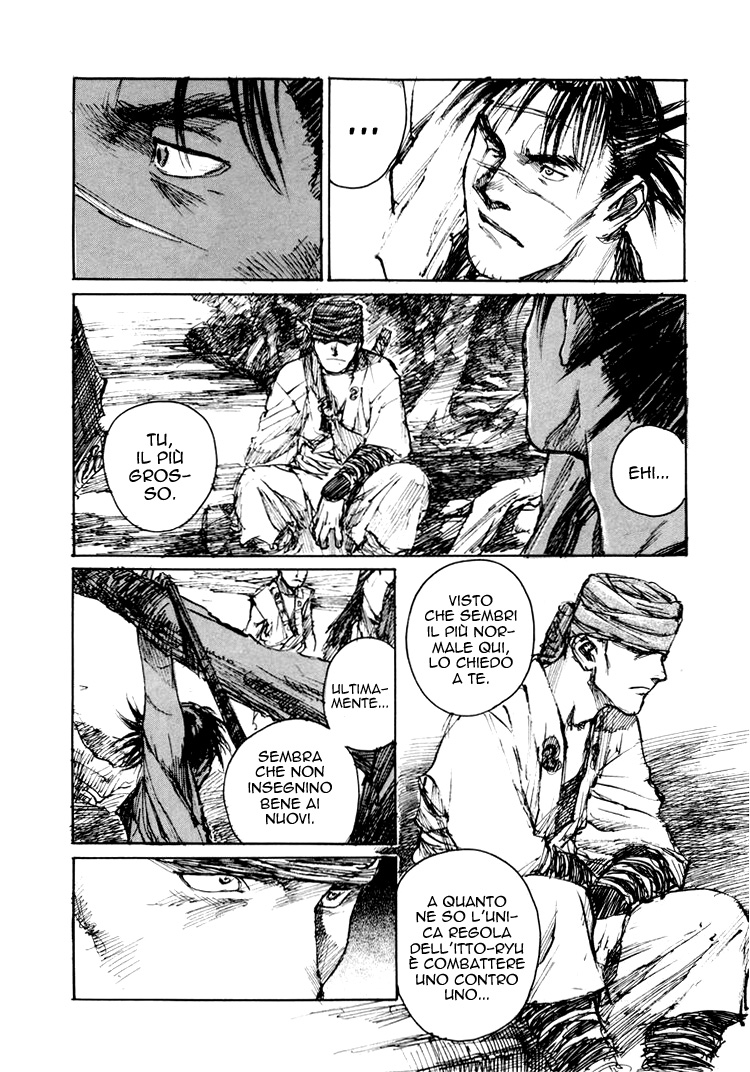Baloon: (398, 849, 538, 1047), (403, 560, 536, 718), (223, 718, 362, 844), (101, 400, 219, 531), (328, 78, 406, 188), (610, 423, 692, 524), (323, 637, 395, 750)
Vignetta: (47, 562, 748, 1072), (69, 291, 690, 559), (72, 568, 397, 845), (328, 78, 687, 285), (70, 75, 323, 282), (70, 857, 397, 1001)
